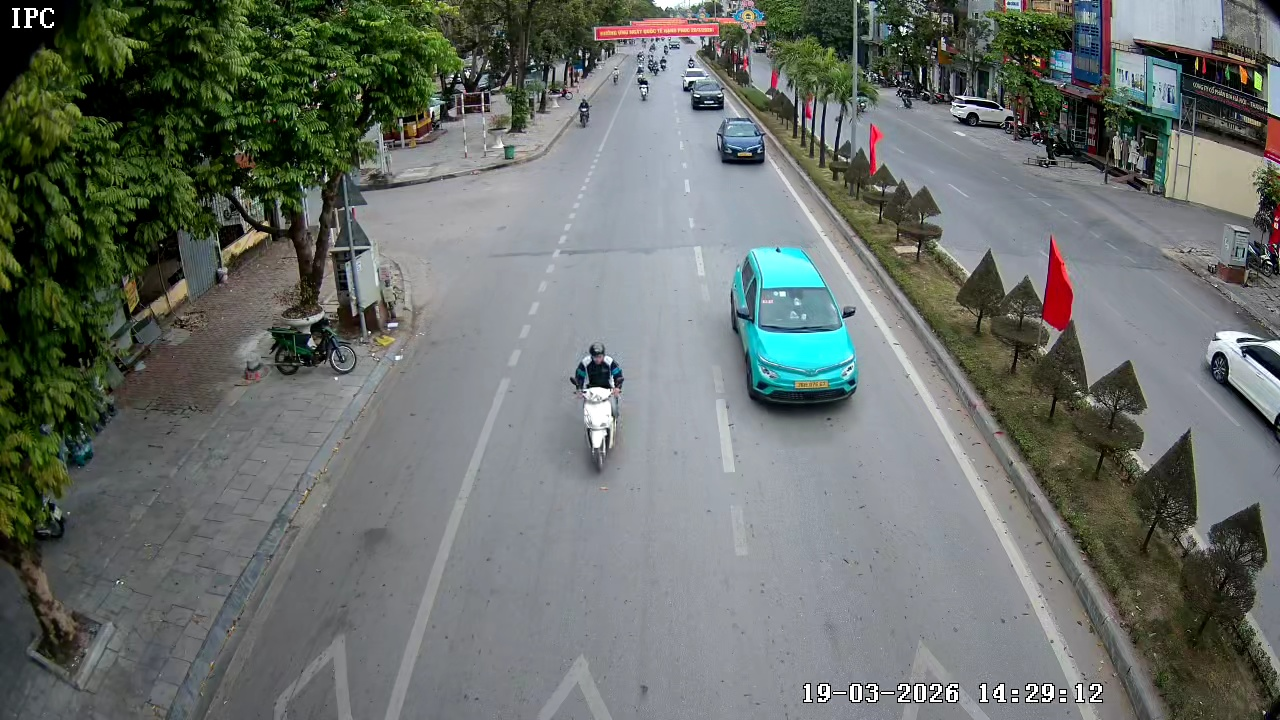car: (728, 246, 859, 406), (1204, 330, 1279, 439), (716, 115, 767, 166), (685, 78, 726, 112)
motorbike: (567, 341, 627, 473), (266, 312, 363, 377), (577, 98, 594, 126), (637, 77, 653, 100)
